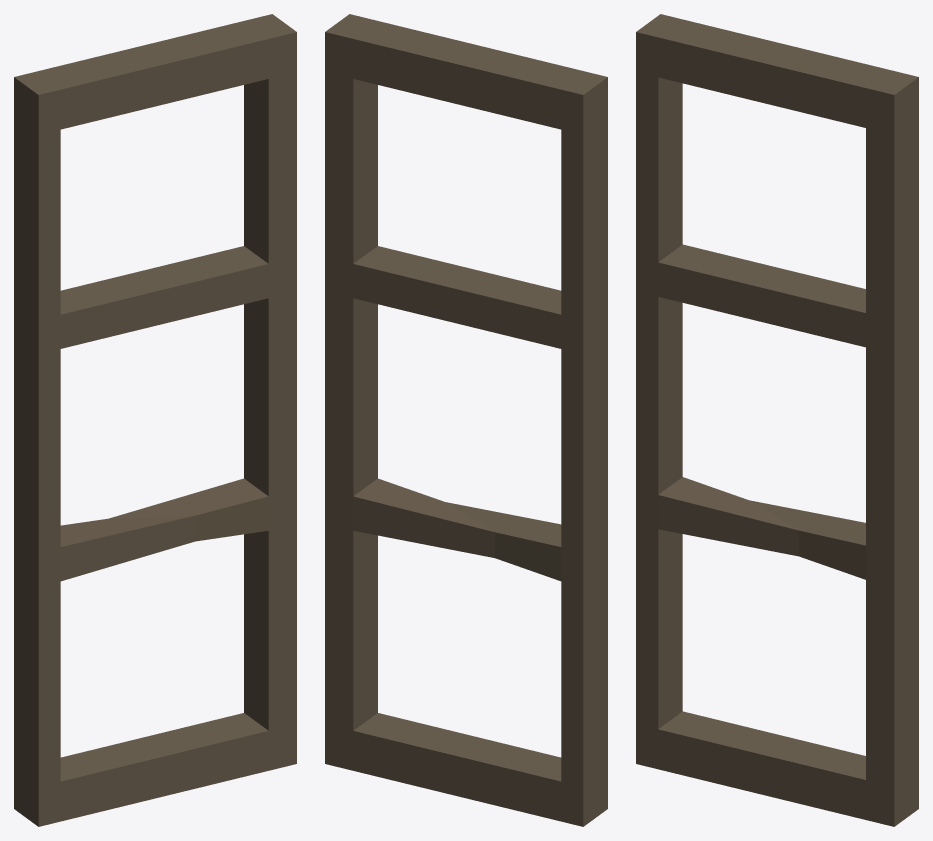
The model's file is SM_Bld_Village_Window_Fold_L_02.glb.
The picture shows the model from 3 angles, left to right: view 1: azimuth 30°, elevation 25°; view 2: azimuth 150°, elevation 25°; view 3: azimuth 330°, elevation 25°; orthographic projection.
Parts seen in each view (by area): view 1: SM_Bld_Village_Window_Fold_L_02; view 2: SM_Bld_Village_Window_Fold_L_02; view 3: SM_Bld_Village_Window_Fold_L_02.
Part boxes in pixels (box(x1,y1,x2,y2)): SM_Bld_Village_Window_Fold_L_02: box(14, 14, 296, 826); SM_Bld_Village_Window_Fold_L_02: box(325, 14, 607, 826); SM_Bld_Village_Window_Fold_L_02: box(636, 14, 918, 826).
Size of the model in its own units: 0.5026 by 1.36 by 0.0829.
1 material, 1 textured.
